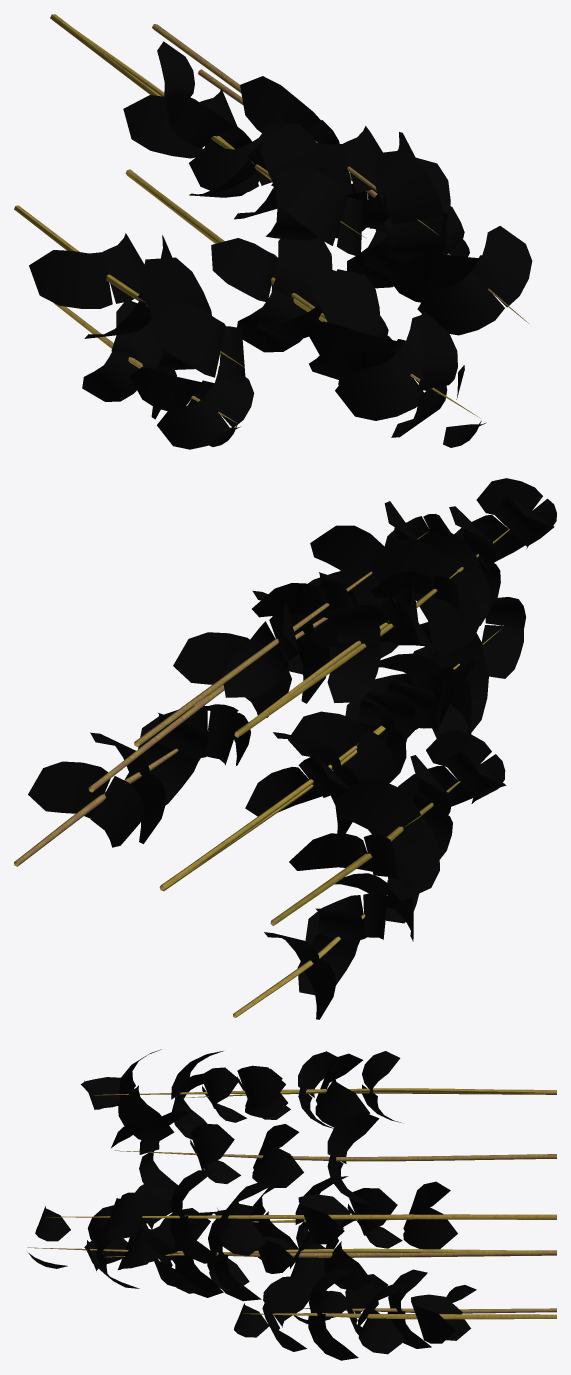
3 renders of one model, top to bottom at view 1: azimuth 30°, elevation 25°; view 2: azimuth 150°, elevation 25°; view 3: azimuth 270°, elevation 25°, orthographic. The views are drawn at different scales.
Visible parts, largest first — view 1: Leaf2w2_LP, Leaf333_LP, Leaf21w2_L, Leaf3_LP_T, Leaf222_LP, Leaf221_LP, Tree3_NL, Tree_NL, Tree2_NL, Leafw21l11; view 2: Leaf222_LP, Leaf221_LP, Leaf3_LP_T, Leaf333_LP, Leaf2w2_LP, Leaf21w2_L, Tree3_NL, Tree_NL, Tree2_NL, Leafw21l11, Leaf2_LP_T, Leafw33_LP (+3 smaller); view 3: Leaf333_LP, Leaf21w2_L, Leaf221_LP, Leaf2w2_LP, Leaf3_LP_T, Leaf222_LP, Tree_NL, Tree3_NL, Tree2_NL, Leafw13_LP, Leafw2l1_L, Leaf2_LP_T (+2 smaller).
Boxes of the visible parts, <box> form: Leaf2w2_LP: <box>211,150,504,420</box>; Leaf333_LP: <box>165,76,443,256</box>; Leaf21w2_L: <box>256,157,532,437</box>; Leaf3_LP_T: <box>123,41,447,259</box>; Leaf222_LP: <box>29,196,393,449</box>; Leaf221_LP: <box>84,200,432,427</box>; Tree3_NL: <box>50,14,438,237</box>; Tree_NL: <box>125,69,528,418</box>; Tree2_NL: <box>14,205,244,422</box>; Leafw21l11: <box>443,420,486,447</box>; Leaf222_LP: <box>28,705,506,1019</box>; Leaf221_LP: <box>90,706,472,995</box>; Leaf3_LP_T: <box>222,495,554,697</box>; Leaf333_LP: <box>252,501,525,703</box>; Leaf2w2_LP: <box>173,571,484,833</box>; Leaf21w2_L: <box>245,590,488,816</box>; Tree3_NL: <box>134,529,509,747</box>; Tree_NL: <box>88,617,503,891</box>; Tree2_NL: <box>14,730,460,1017</box>; Leafw21l11: <box>459,625,523,678</box>; Leaf2_LP_T: <box>234,713,491,766</box>; Leafw33_LP: <box>423,478,542,578</box>; Leaf333_LP: <box>118,1051,401,1187</box>; Leaf21w2_L: <box>86,1178,371,1301</box>; Leaf221_LP: <box>255,1176,476,1360</box>; Leaf2w2_LP: <box>87,1170,365,1293</box>; Leaf3_LP_T: <box>119,1049,400,1204</box>; Leaf222_LP: <box>249,1181,470,1354</box>; Tree_NL: <box>27,1214,556,1257</box>; Tree3_NL: <box>93,1088,556,1161</box>; Tree2_NL: <box>242,1214,556,1319</box>; Leafw13_LP: <box>80,1073,203,1109</box>; Leafw2l1_L: <box>35,1206,97,1270</box>; Leaf2_LP_T: <box>217,1208,269,1337</box>.
Size of the model in its own units: 12.36 by 12.41 by 20.47.
